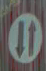Two way: (8, 4, 42, 64)
